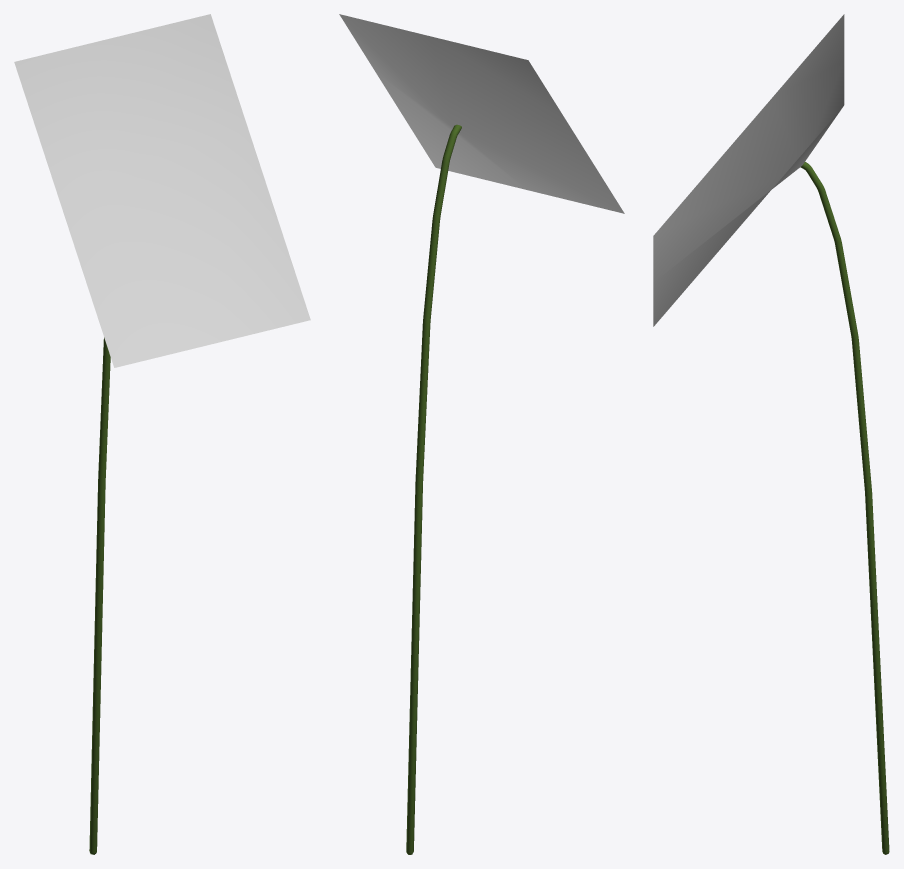
Rendered from Colocasia Esculenta.fbx.
3 renders of one model, left to right at view 1: azimuth 30°, elevation 25°; view 2: azimuth 150°, elevation 25°; view 3: azimuth 270°, elevation 25°, orthographic. The views are drawn at different scales.
Parts seen in each view (by area): view 1: blatt, stiel; view 2: blatt, stiel; view 3: blatt, stiel.
Boxes of the visible parts, x1,y1,x2,y2 form: blatt: (14,14,310,367); stiel: (89,337,110,854); blatt: (339,14,624,213); stiel: (406,124,461,854); blatt: (653,14,844,326); stiel: (800,162,889,854).
Size of the model in its own units: 321 by 1302 by 351.
